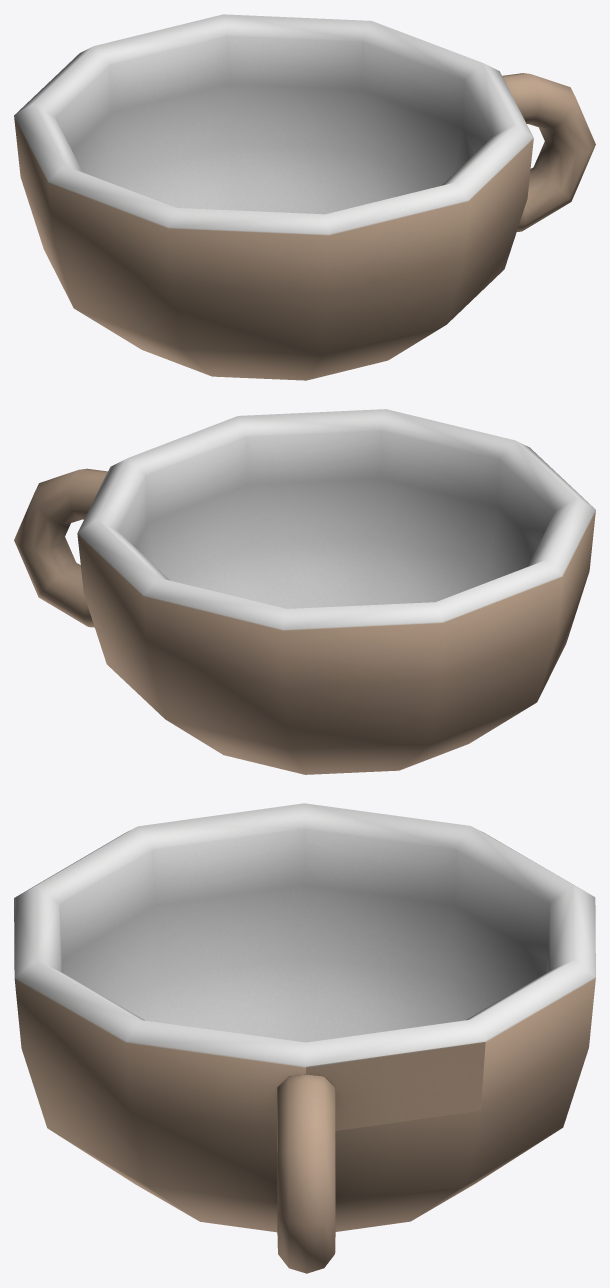
The model's file is frl_apartment_cup_03.glb.
3 renders of one model, top to bottom at view 1: azimuth 30°, elevation 25°; view 2: azimuth 150°, elevation 25°; view 3: azimuth 270°, elevation 25°, orthographic. The views are drawn at different scales.
Parts seen in each view (by area): view 1: frl_apartment_cup_03; view 2: frl_apartment_cup_03; view 3: frl_apartment_cup_03.
Part boxes in pixels (x1,y1,x2,y2): frl_apartment_cup_03: (14,14,595,380); frl_apartment_cup_03: (14,409,595,774); frl_apartment_cup_03: (14,803,595,1273).
Size of the model in its own units: 0.1689 by 0.0675 by 0.1334.
Materials: 1 (1 with a texture image).
